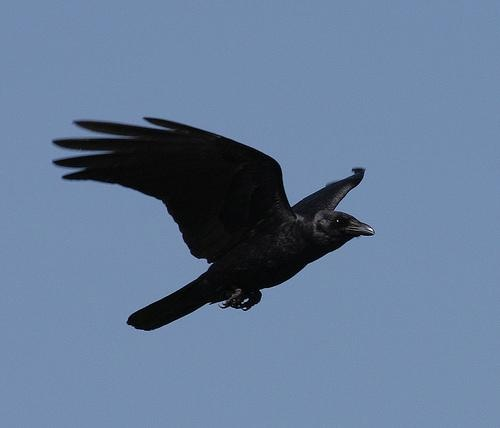bird: (50, 115, 376, 331)
